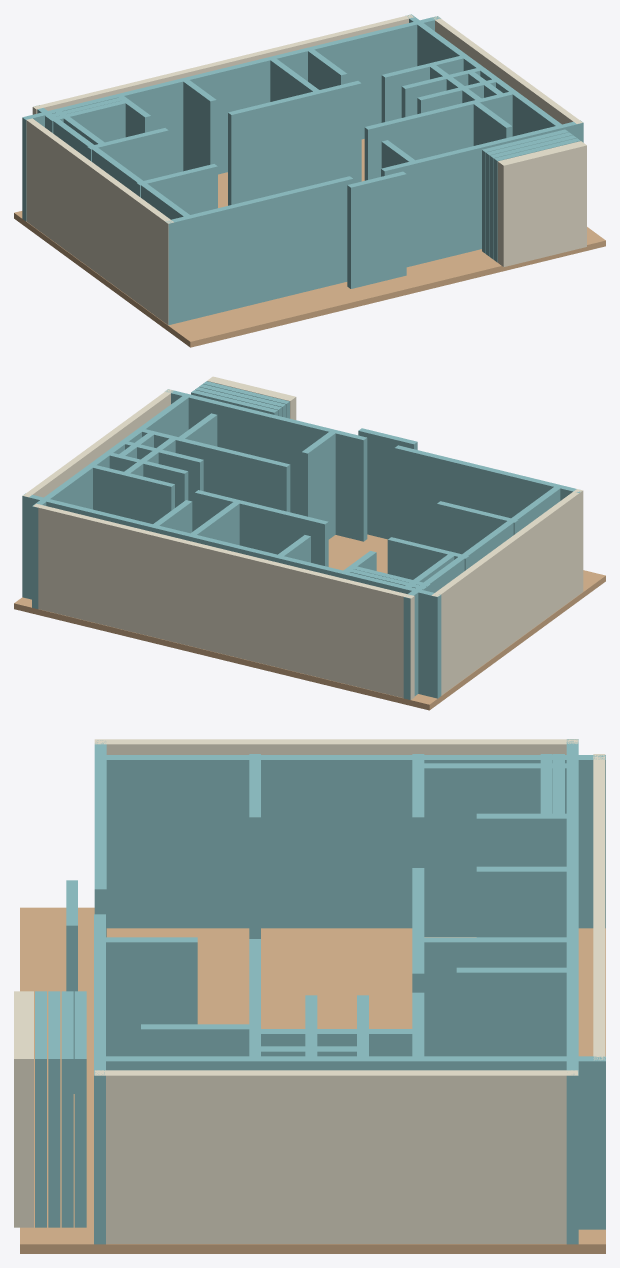
File: 1790491783310-TX86-GROUND-Floor-building-1790491783376.glb
3 views of the same model, one above another, from view 1: azimuth 30°, elevation 25°; view 2: azimuth 150°, elevation 25°; view 3: azimuth 270°, elevation 25° (orthographic). The views are drawn at different scales.
Visible parts, largest first — view 1: Floor plan building shell; view 2: Floor plan building shell; view 3: Floor plan building shell.
Boxes of the visible parts, x1=… form: Floor plan building shell: x1=14, y1=14, x2=605, y2=347; Floor plan building shell: x1=14, y1=376, x2=605, y2=710; Floor plan building shell: x1=14, y1=739, x2=605, y2=1253.
Size of the model in its own units: 12 by 2.96 by 8.92.
